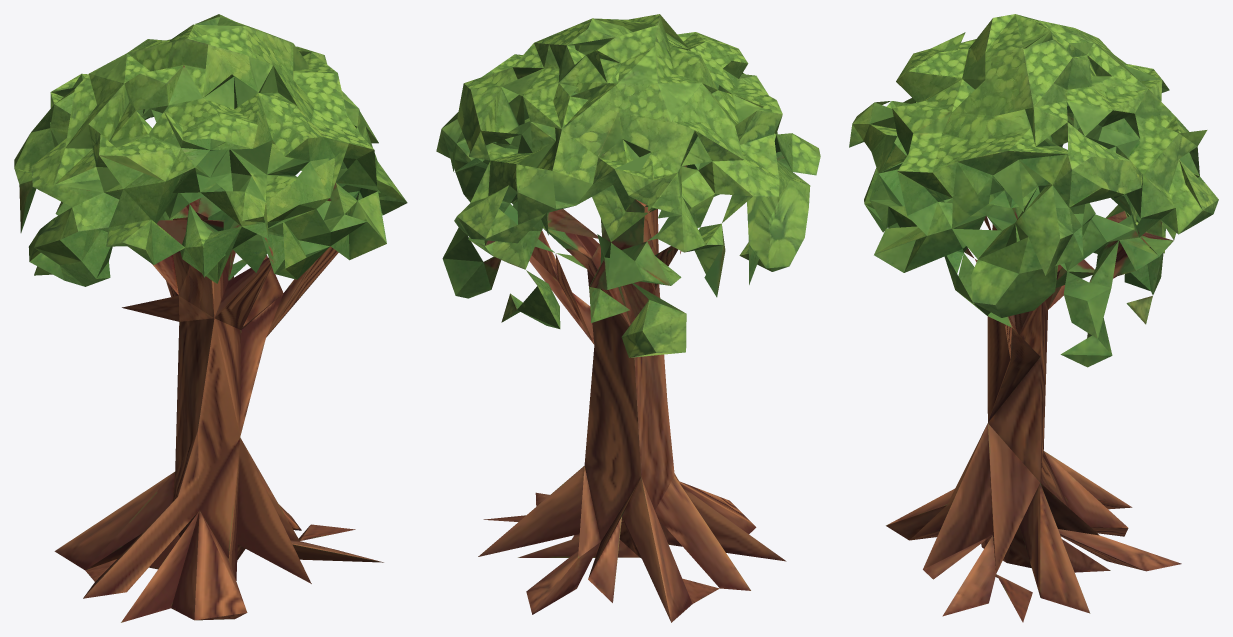
The model's file is arvore.glb.
3 views of the same model, side by side, from view 1: azimuth 30°, elevation 25°; view 2: azimuth 150°, elevation 25°; view 3: azimuth 270°, elevation 25° (orthographic).
Size of the model in its own units: 1.29 by 1.88 by 1.18.
Materials: 1 (1 with a texture image).
